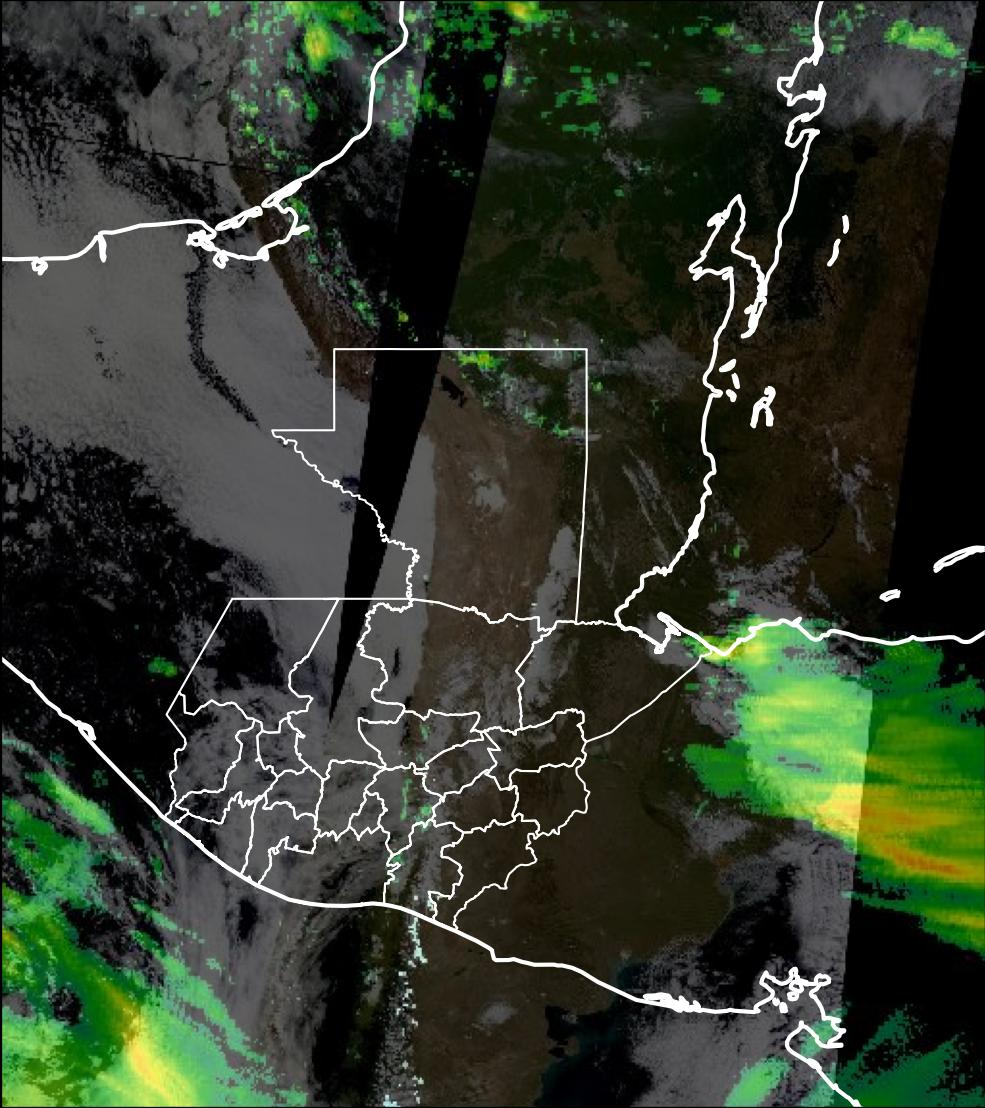precipitacion: (820, 783, 985, 914)
